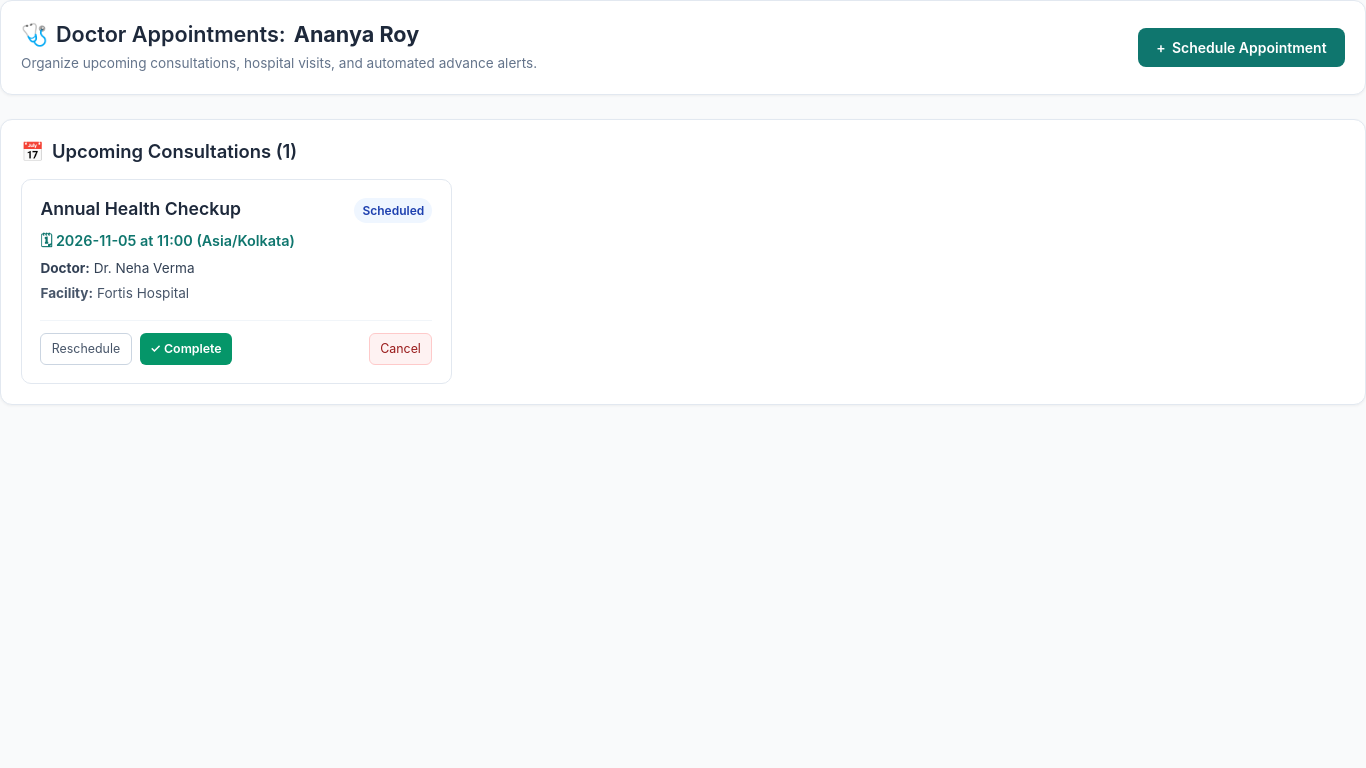
Scenario: Phase 4 — Appointment Dashboard UI › renders upcoming appointments and opens schedule modal
Check: the heading "Annual Health Checkup" is shown, box [40,198,241,220]
Check: the text "Doctor: Dr. Neha Verma" is shown, box [40,260,195,276]
Click the button "+ Schedule Appointment".
click(1241, 48)  # box [1138,28,1345,67]
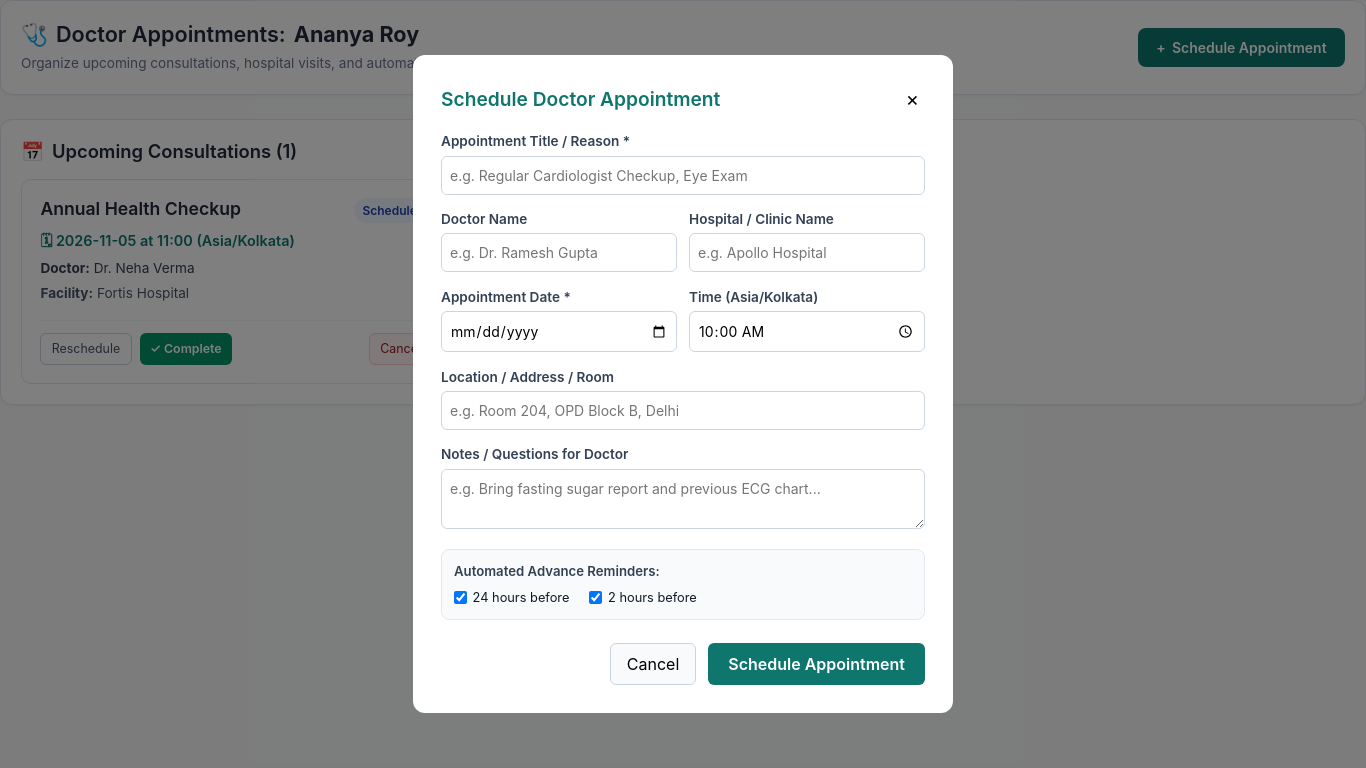
Check: the heading "Schedule Doctor Appointment" is shown, box [441,87,720,111]
Check: the text "Appointment Title / Reason *" is shown, box [441,133,630,149]
